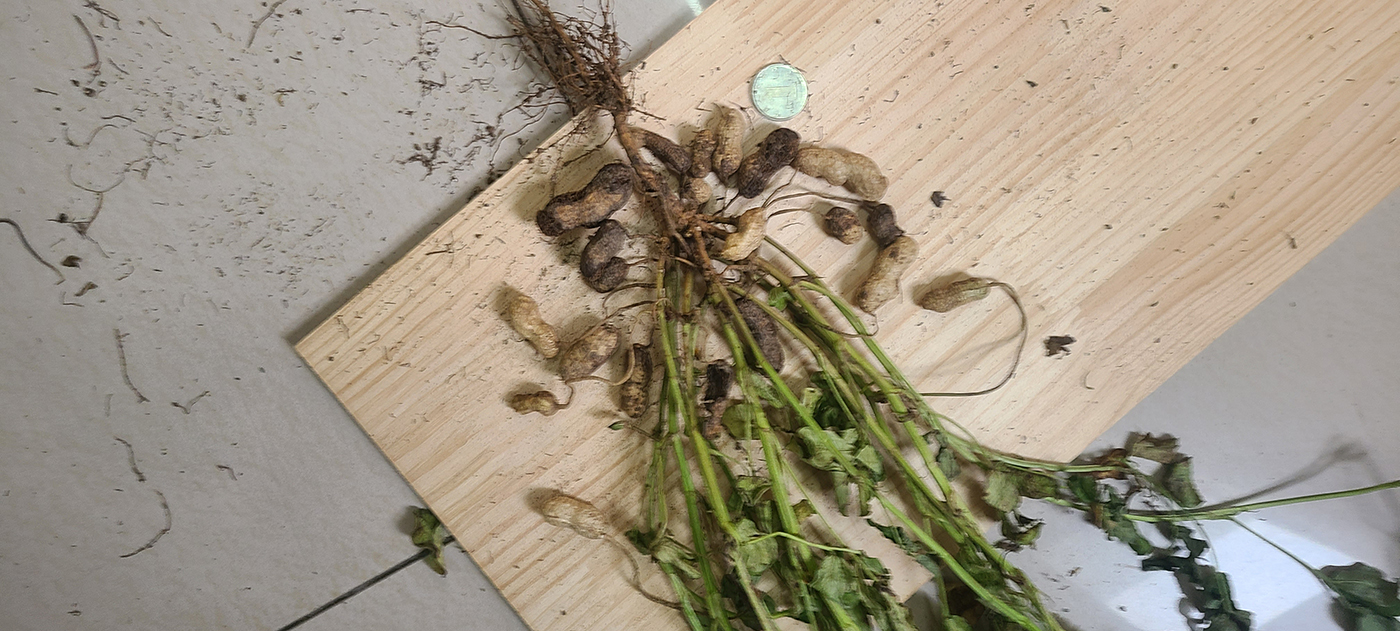h: (860, 202, 919, 314), (795, 147, 890, 201), (541, 493, 611, 541), (630, 128, 693, 176), (507, 296, 556, 355), (920, 279, 993, 313), (714, 106, 743, 190), (721, 207, 765, 259), (822, 205, 861, 244), (509, 391, 558, 418), (694, 130, 712, 180), (685, 178, 710, 207)
l: (539, 163, 636, 238), (737, 129, 799, 198), (730, 295, 782, 375), (583, 222, 628, 292), (622, 346, 653, 418)
